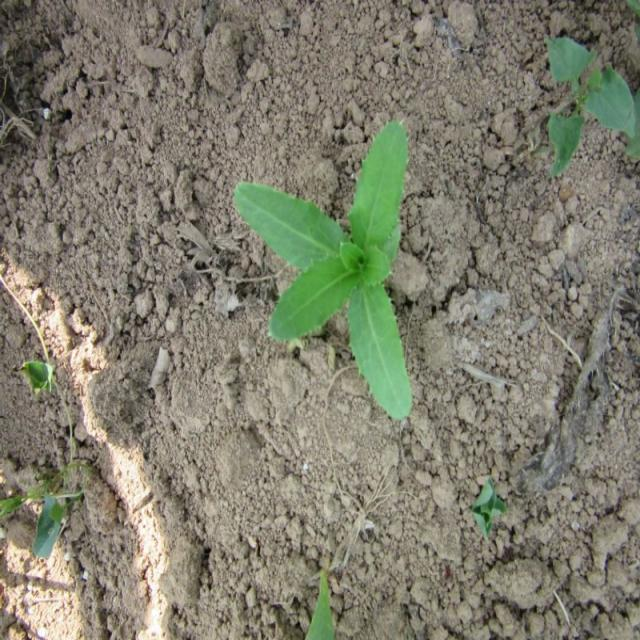field_thistle: (216, 122, 455, 417)
